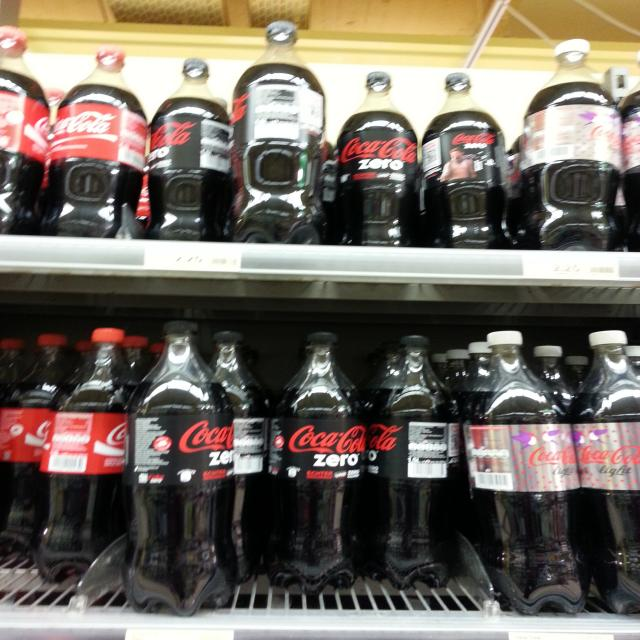SoftDrinks: (462, 330, 586, 618), (126, 322, 232, 616), (260, 331, 365, 596), (368, 335, 462, 590), (229, 19, 332, 244), (38, 328, 129, 582), (523, 36, 629, 250), (567, 330, 640, 622), (0, 331, 84, 559), (54, 47, 148, 240), (150, 55, 240, 243), (332, 66, 426, 245), (422, 73, 515, 247), (0, 19, 52, 236)
